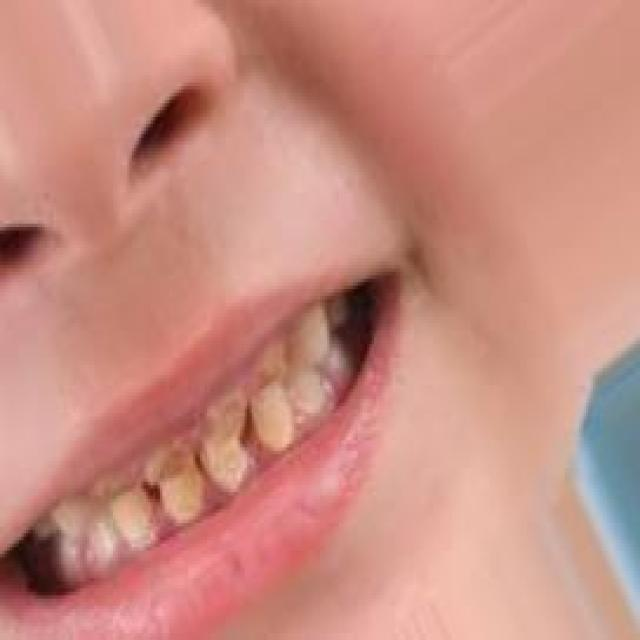caries: (140, 438, 198, 495), (245, 343, 292, 402), (198, 392, 248, 447), (86, 464, 136, 512)
